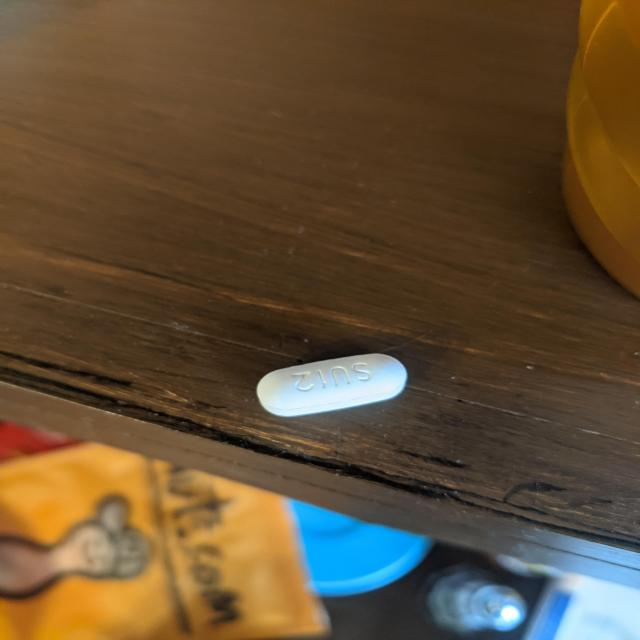non-organic waste: (254, 352, 408, 418)
